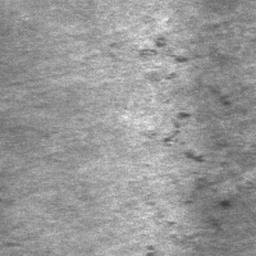Rolled in scale: (144, 112, 217, 189), (140, 9, 201, 80), (158, 219, 200, 243), (233, 173, 253, 191), (212, 90, 231, 107), (109, 43, 117, 58), (146, 245, 154, 256), (219, 200, 229, 207), (218, 142, 229, 148), (6, 243, 20, 247)
